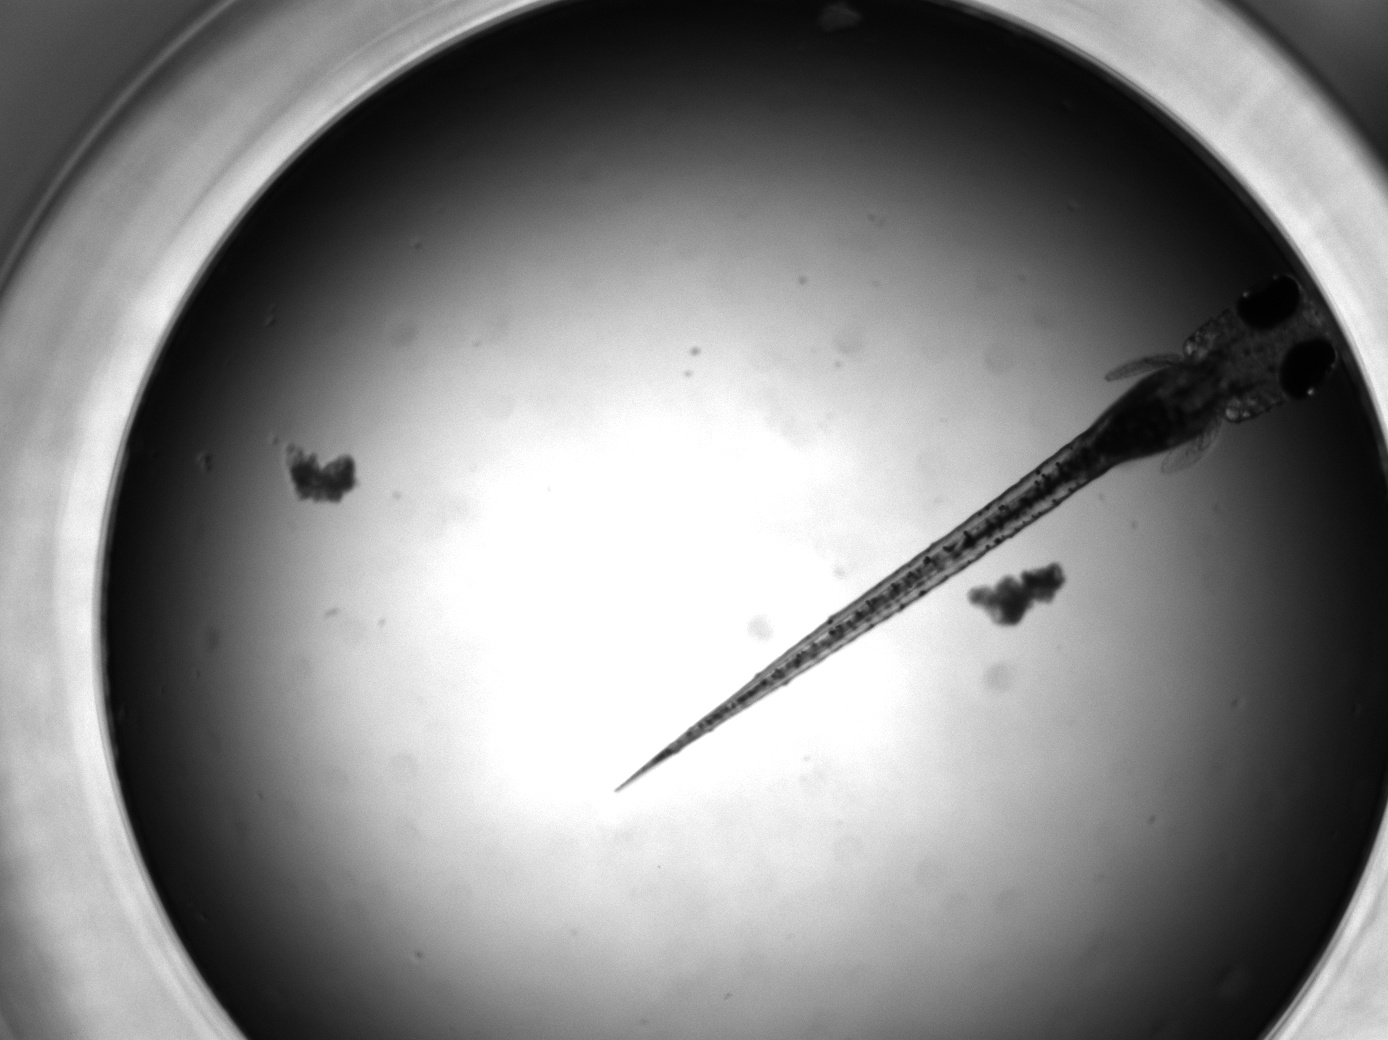debris: (968, 562, 1067, 629), (284, 444, 359, 508)
embryo: (614, 273, 1342, 795)
eye: (1277, 336, 1336, 402), (1235, 274, 1302, 331)
yolksac: (1087, 362, 1227, 466)
